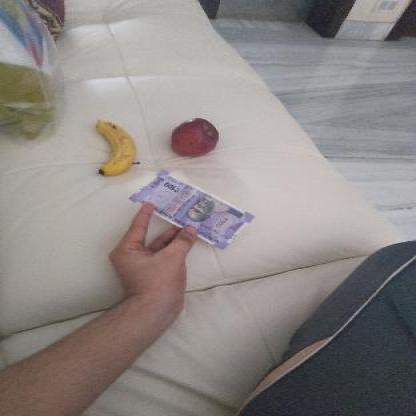New100Front: (129, 169, 255, 246)
